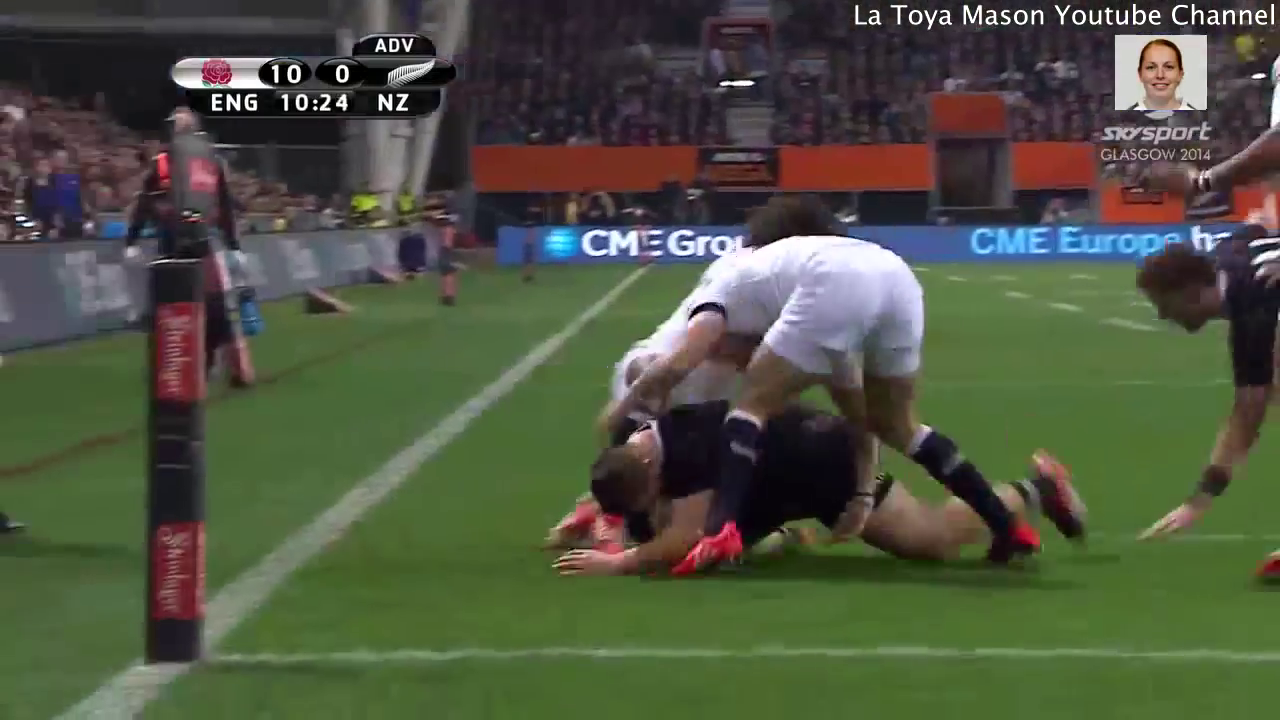player: (594, 224, 1081, 611), (553, 387, 1097, 598), (1128, 208, 1280, 602)
ruck: (494, 178, 1077, 646)
